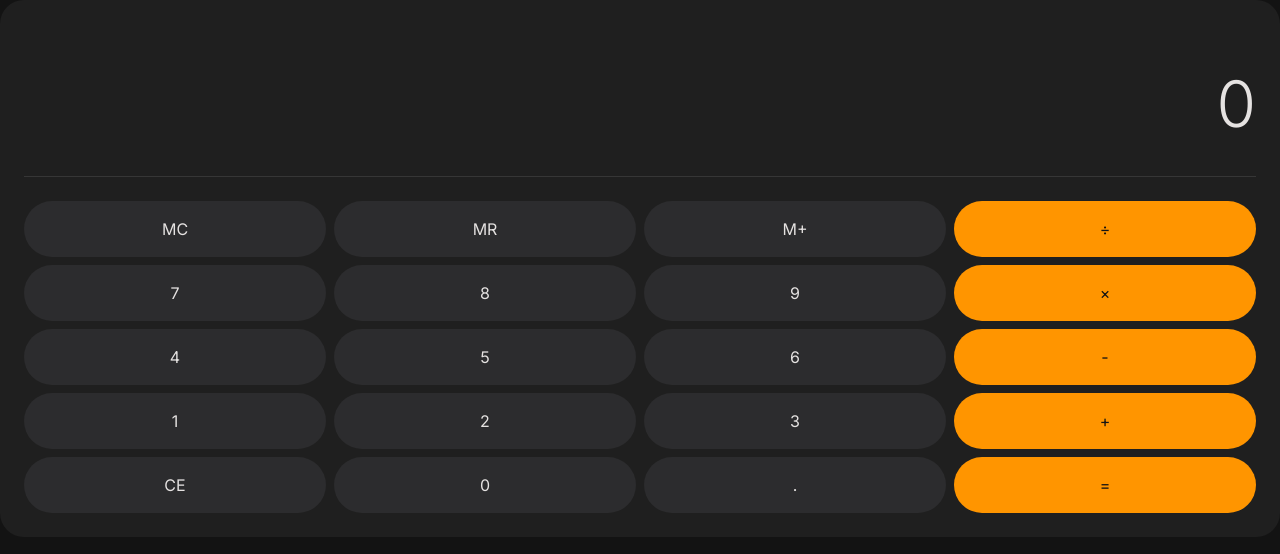
Scenario: CalculatorSection › enters numbers using the keypad
Click the button with test id "key-1".
click(175, 421)  # box [24,393,326,449]
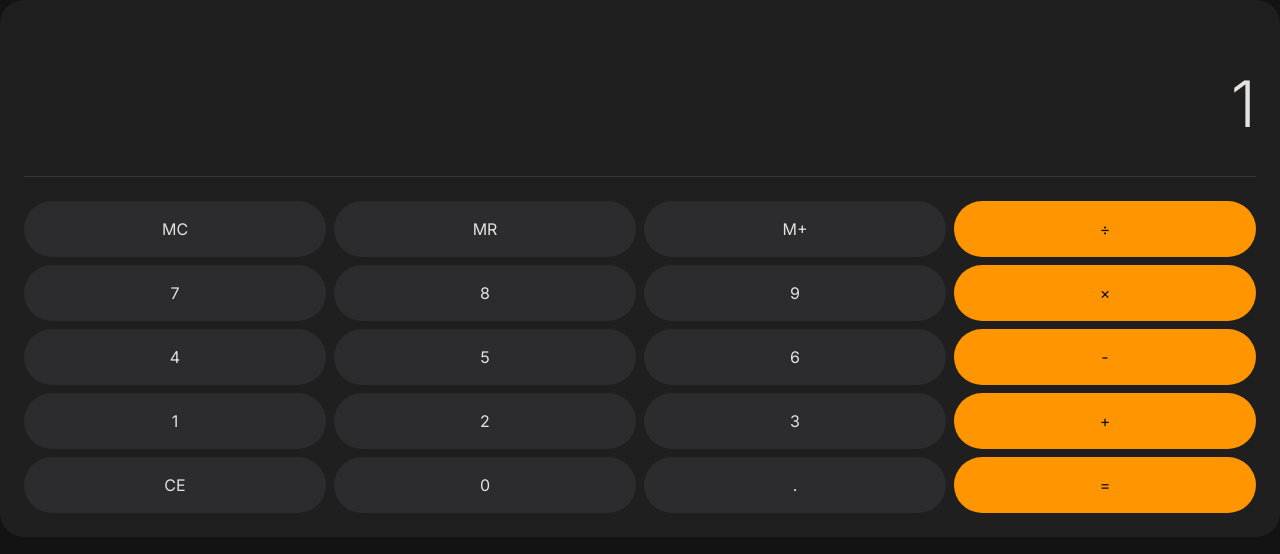
Click the button with test id "key-2".
click(485, 421)  # box [334,393,636,449]
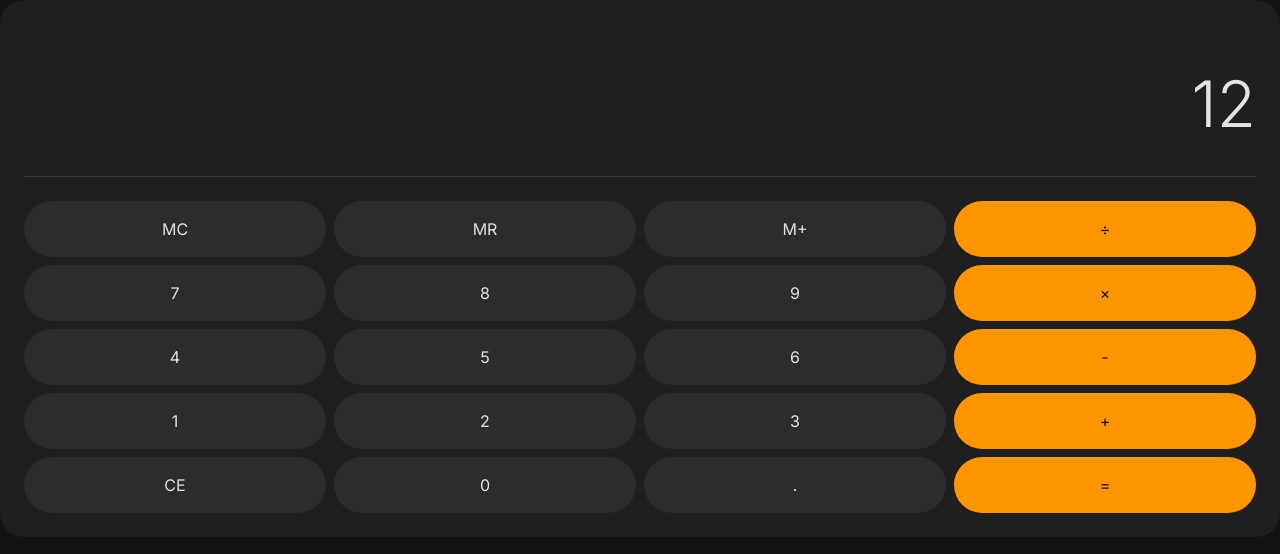
Expected: the text with test id "calculator-display" reads "12", [1192,65,1256,142]
